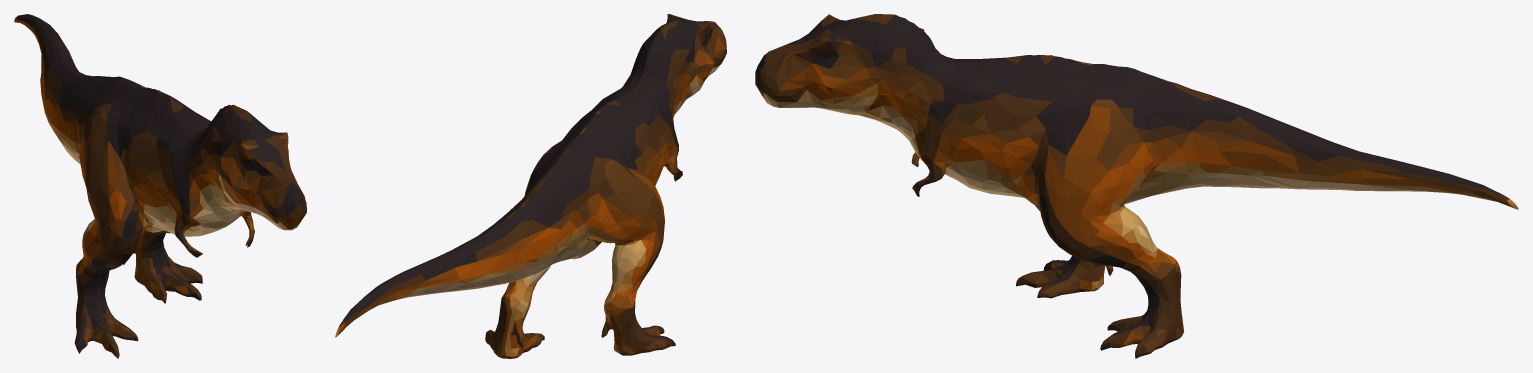
File: preview.glb
3 views of the same model, side by side, from view 1: azimuth 30°, elevation 25°; view 2: azimuth 150°, elevation 25°; view 3: azimuth 270°, elevation 25° (orthographic). The views are drawn at different scales.
Visible parts, largest first — view 1: low-poly-t-rex; view 2: low-poly-t-rex; view 3: low-poly-t-rex.
Part boxes in pixels (box(x1,y1,x2,y2)): low-poly-t-rex: box(14, 14, 306, 358); low-poly-t-rex: box(335, 14, 726, 358); low-poly-t-rex: box(755, 14, 1518, 358).
Size of the model in its own units: 3.28 by 5.28 by 12.06.
1 material, 1 textured.
